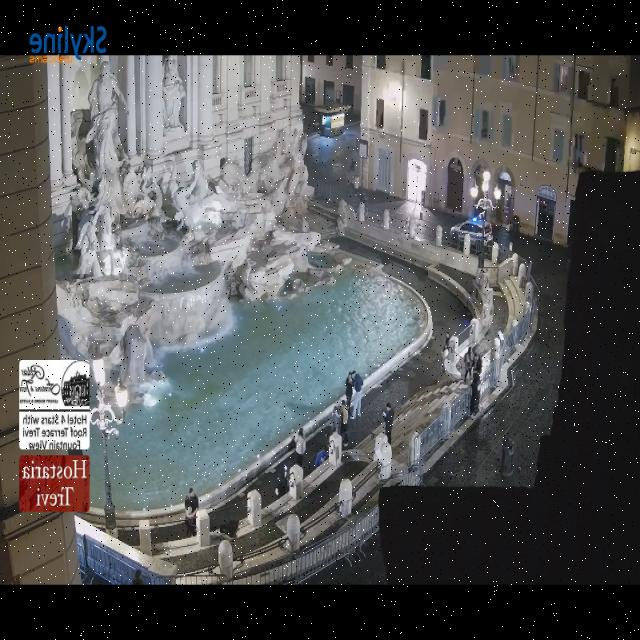person: (351, 372, 362, 418), (184, 496, 195, 537), (382, 403, 393, 444), (469, 371, 479, 416), (295, 429, 305, 468), (275, 465, 287, 497), (219, 519, 238, 537), (340, 400, 347, 448), (345, 372, 353, 411), (464, 348, 472, 383), (330, 406, 340, 434), (314, 450, 327, 468), (188, 489, 198, 512), (472, 353, 481, 374), (132, 570, 143, 584), (442, 332, 449, 351), (349, 159, 354, 171)
